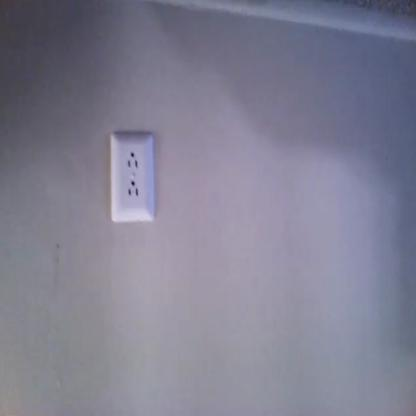OUTLET: (110, 131, 154, 226)
